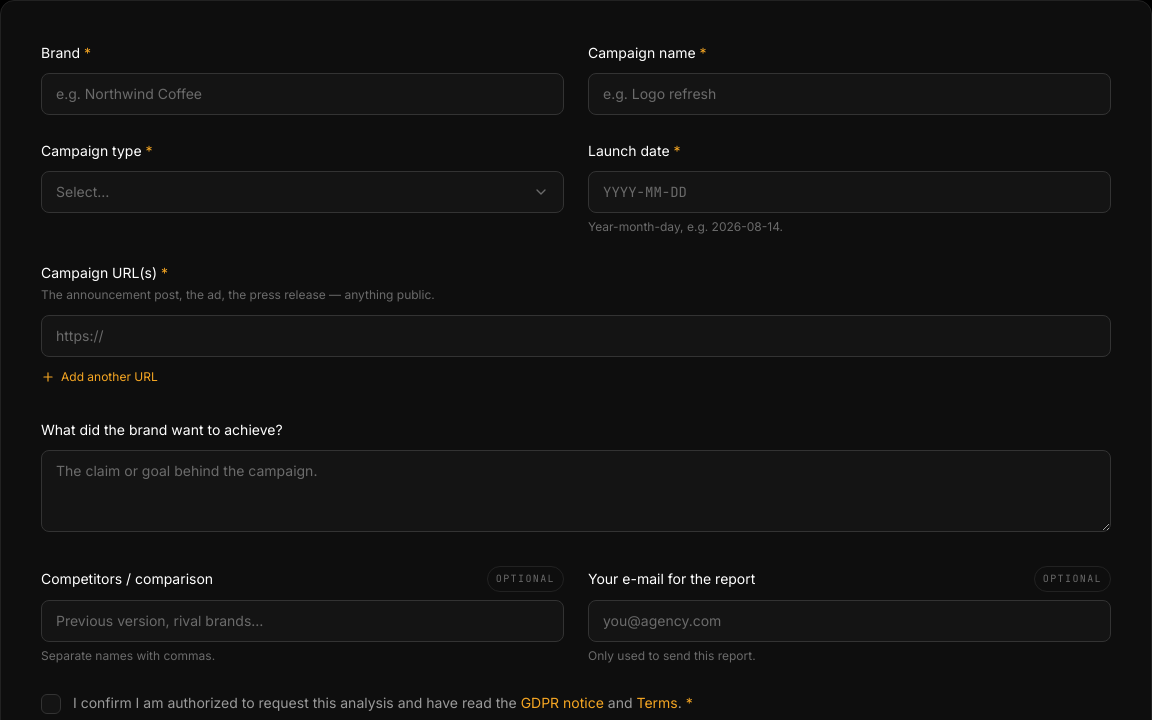
Test: NewCaseForm › warns about a future launch date without blocking
Type "2027-01-01" into the field labelled "Launch date *". click: coordinates (850, 192)
box: [588,171,1111,213]
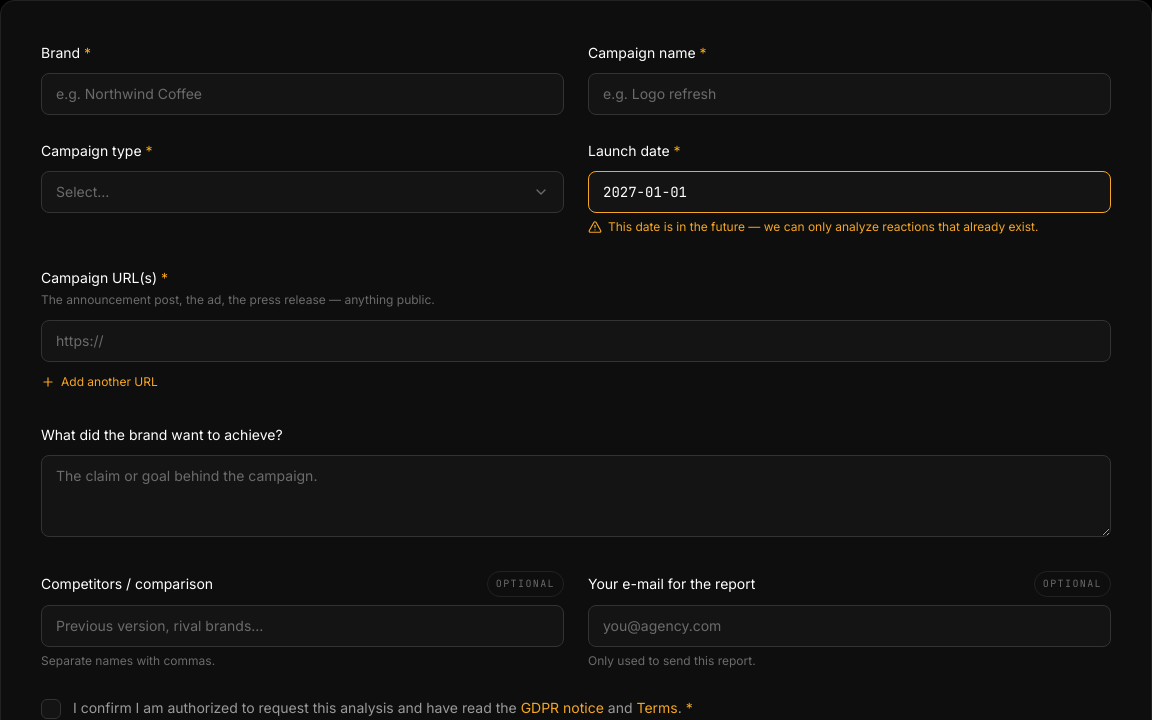
Expected: the text "in the future" is shown, [608,219,1038,234]
